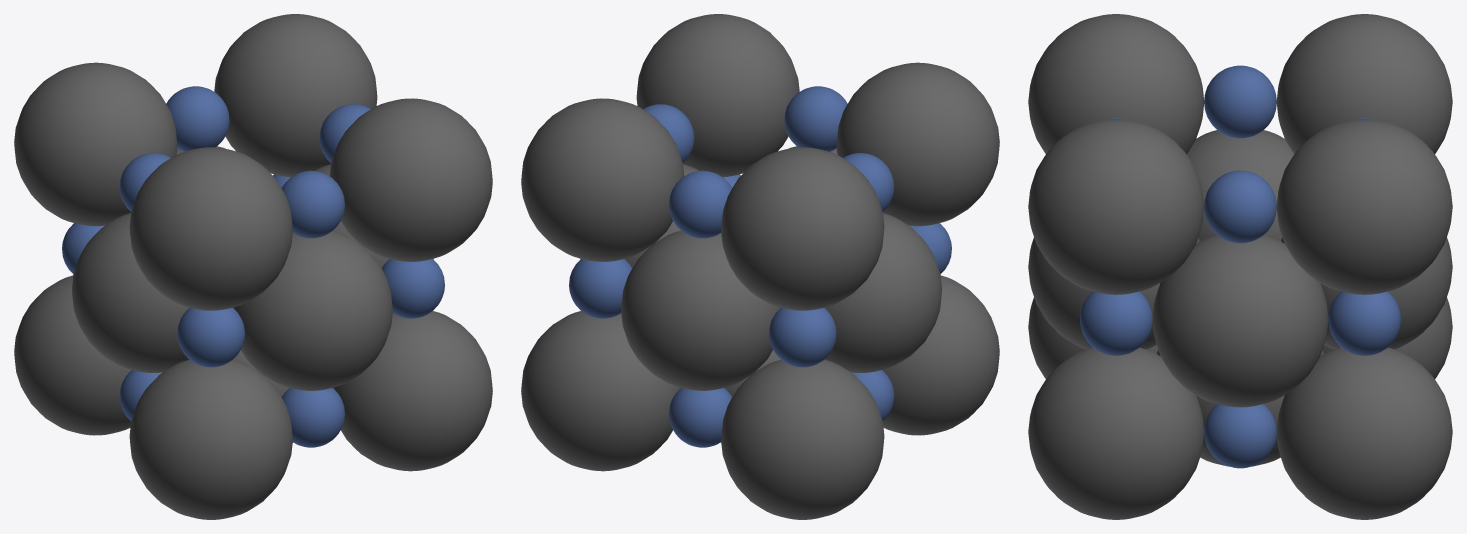
File: kfz_OL_open_ppt.glb
3 views of the same model, side by side, from view 1: azimuth 30°, elevation 25°; view 2: azimuth 150°, elevation 25°; view 3: azimuth 270°, elevation 25° (orthographic). The views are drawn at different scales.
Visible parts, largest first — view 1: Sphere.013, Sphere.016; view 2: Sphere.013, Sphere.016; view 3: Sphere.013, Sphere.016.
Boxes of the visible parts, left/top/right/bottom form: Sphere.013: left=14, top=14, right=492, bottom=519; Sphere.016: left=62, top=86, right=444, bottom=447; Sphere.013: left=521, top=14, right=999, bottom=519; Sphere.016: left=569, top=86, right=951, bottom=447; Sphere.013: left=1028, top=14, right=1452, bottom=519; Sphere.016: left=1080, top=65, right=1400, bottom=468.
Size of the model in its own units: 4.82 by 4.82 by 4.82.
